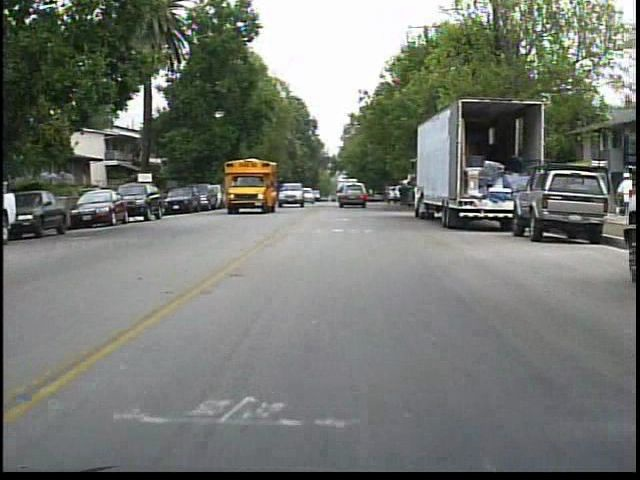person: (396, 176, 416, 217)
